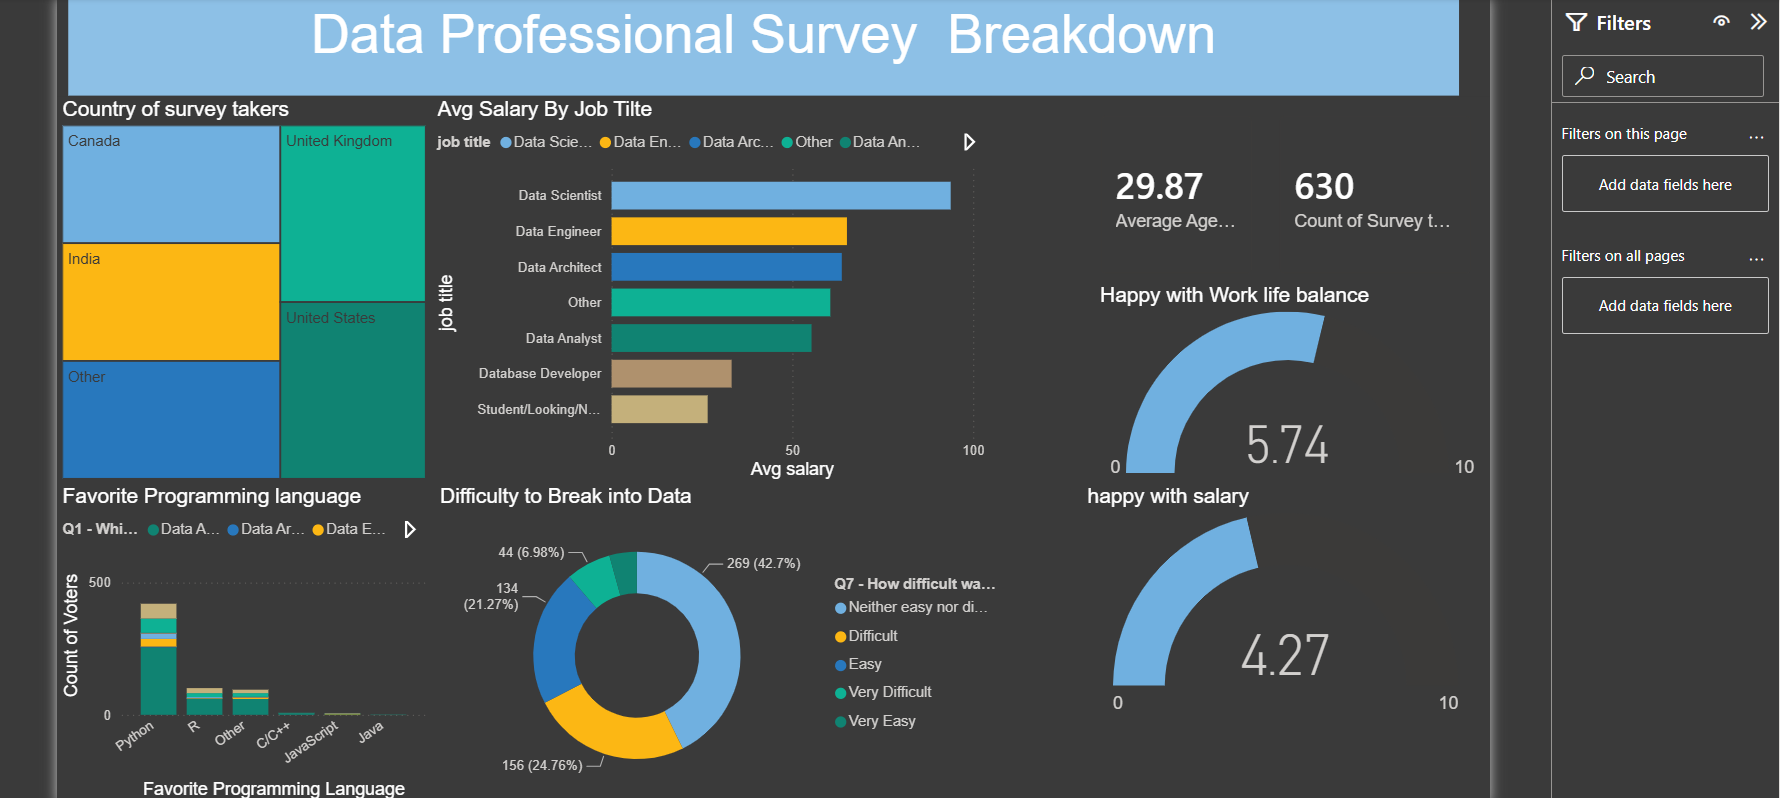

The dashboard page shown, as its layout file describes it:
{"tool":"powerbi","page":{"name":"Page 1","canvas":[1280,720],"ordinal":0},"visuals":[{"type":"textbox","box":[9.9,0,1242.2,87.4],"z":0},{"type":"cardVisual","fields":{"Data":["Count(Data Professional Survey.Unique ID)"]},"box":[1075.1,87.7,205.2,175.5],"z":1000},{"type":"cardVisual","fields":{"Data":["Avg(Data Professional Survey.Q10 - Current Age)"]},"box":[916,87.7,169.5,175.5],"z":1001},{"type":"barChart","title":"Avg Salary By Job Tilte","fields":{"Category":["Data Professional Survey.Q1 - Which Title Best Fits your Current Role?.1"],"Y":["Avg(Data Professional Survey.Avg salary)"],"Series":["Data Professional Survey.Q1 - Which Title Best Fits your Current Role?.1"]},"box":[334.6,87.7,499.6,346.5],"z":1002},{"type":"columnChart","title":"Favorite Programming language","fields":{"Category":["Data Professional Survey.Q5 - Favorite Programming Language.1"],"Y":["CountNonNull(Data Professional Survey.Unique ID)"],"Series":["Data Professional Survey.Q1 - Which Title Best Fits your Current Role?.1"]},"box":[0,434.2,334.6,285.5],"z":1003},{"type":"treemap","title":"Country of survey takers","fields":{"Group":["Data Professional Survey.Q11 - Which Country do you live in?.1"],"Values":["Count(Data Professional Survey.Q11 - Which Country do you live in?.1)"]},"box":[0,87.7,334.6,346.5],"z":1004},{"type":"gauge","title":"happy with salary","fields":{"Y":["Avg(Data Professional Survey.Q6 - How Happy are you in your Current Position with the following? (Salary))"],"MinValue":["Min(Data Professional Survey.Q6 - How Happy are you in your Current Position with the following? (Salary))"],"MaxValue":["Max(Data Professional Survey.Q6 - How Happy are you in your Current Position with the following? (Salary))"]},"box":[916,434.2,364.3,212.6],"z":1005},{"type":"gauge","title":"Happy with Work life balance","fields":{"Y":["Avg(Data Professional Survey.Q6 - How Happy are you in your Current Position with the following? (Work/Life Balance))"],"MinValue":["Min(Data Professional Survey.Q6 - How Happy are you in your Current Position with the following? (Work/Life Balance))"],"MaxValue":["Max(Data Professional Survey.Q6 - How Happy are you in your Current Position with the following? (Work/Life Balance))1"]},"box":[926.4,254.3,353.9,179.9],"z":1006},{"type":"donutChart","title":"Difficulty to Break into Data","fields":{"Category":["Data Professional Survey.Q7 - How difficult was it for you to break into Data?"],"Y":["CountNonNull(Data Professional Survey.Q7 - How difficult was it for you to break into Data?)"]},"box":[337.5,434.2,513,285.5],"z":1007}]}

Visuals, with their boxes on the page's 1280x720 design canvas (x1, y1, x2, y2). These are canvas units, not pixel positions in the 1780x798 screenshot, which may show the page scaled, cropped or inside an application window:
textbox: 10:0:1252:87
cardVisual - Count(Data Professional Survey.Unique ID): 1075:88:1280:263
cardVisual - Avg(Data Professional Survey.Q10 - Current Age): 916:88:1086:263
"Avg Salary By Job Tilte" barChart: 335:88:834:434
"Favorite Programming language" columnChart: 0:434:335:720
"Country of survey takers" treemap: 0:88:335:434
"happy with salary" gauge: 916:434:1280:647
"Happy with Work life balance" gauge: 926:254:1280:434
"Difficulty to Break into Data" donutChart: 338:434:850:720
